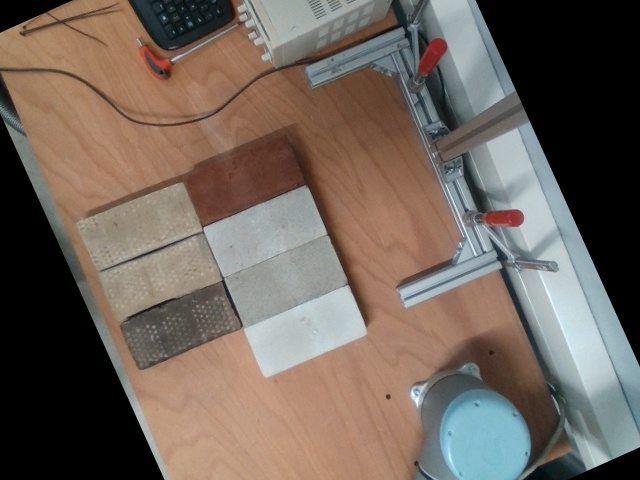brick: (203, 183, 326, 276), (223, 234, 347, 326), (78, 179, 202, 271), (245, 286, 366, 376), (119, 280, 240, 369), (99, 231, 221, 319), (184, 137, 303, 223)
